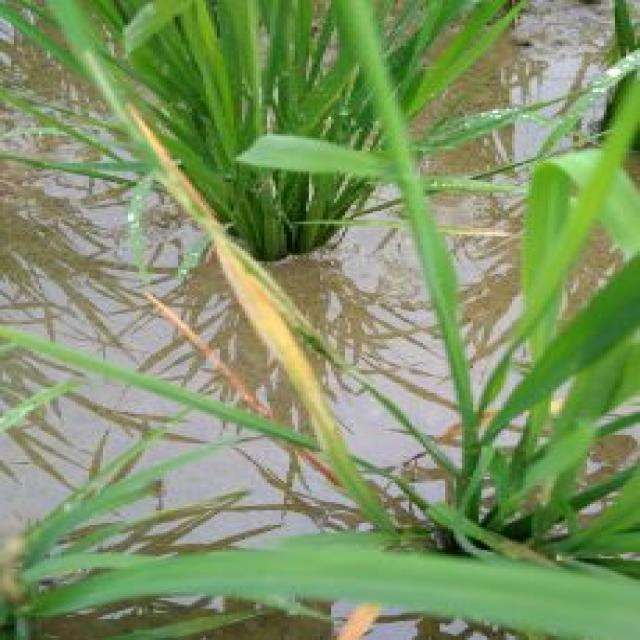Tungro: (106, 89, 381, 446)
